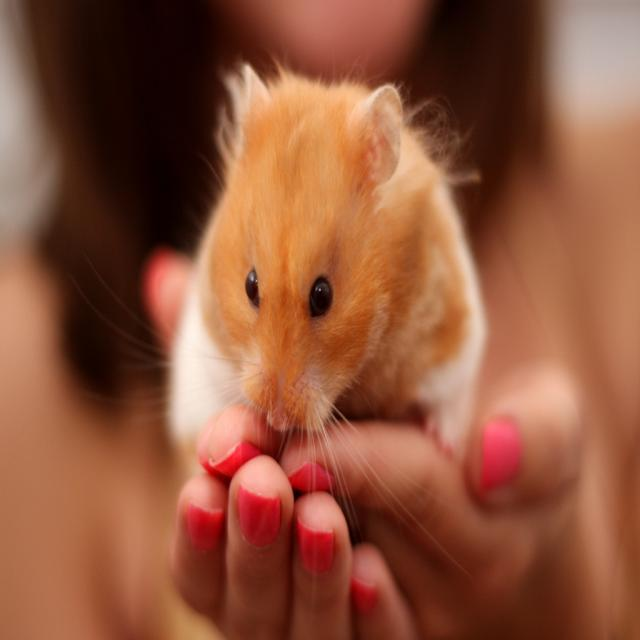rat: (169, 61, 484, 452)
